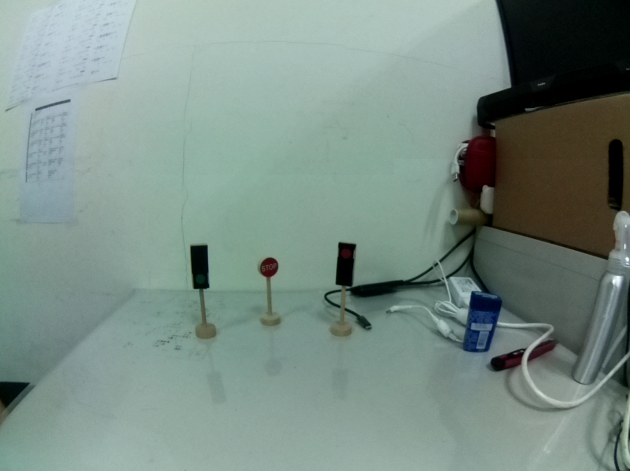Green: (188, 243, 214, 291)
Red: (335, 240, 357, 289)
Stop: (255, 253, 279, 279)
